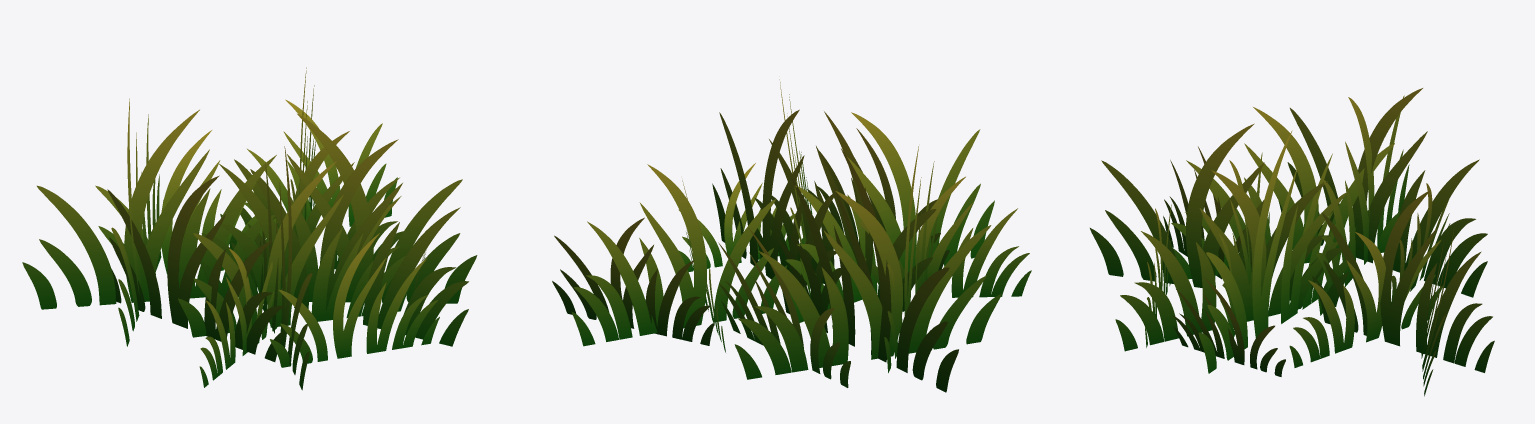
File: mid_grass_06.gltf
3 renders of one model, left to right at view 1: azimuth 30°, elevation 25°; view 2: azimuth 150°, elevation 25°; view 3: azimuth 270°, elevation 25°, orthographic. The views are drawn at different scales.
Parts seen in each view (by area): view 1: default; view 2: default; view 3: default.
Part boxes in pixels (bbox=[...]): default: bbox=[22, 67, 477, 390]; default: bbox=[552, 79, 1031, 392]; default: bbox=[1090, 88, 1494, 396].
Bounding box in the file's own units: 1.16 × 0.5771 × 1.13.
Materials: 1 (1 with a texture image).
